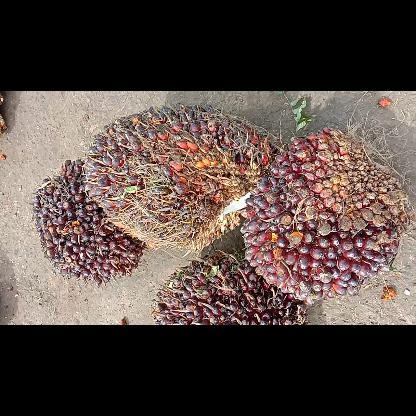Kurang masak: (240, 125, 408, 306), (80, 104, 276, 254), (32, 160, 144, 286), (152, 250, 308, 324)
